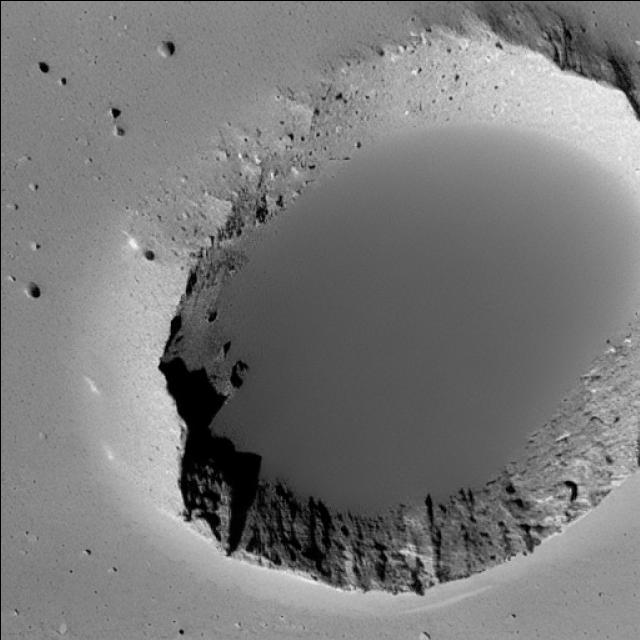crater: (159, 0, 640, 597)
